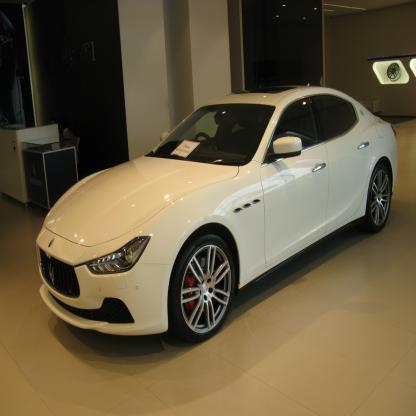Car: (33, 93, 406, 348)
